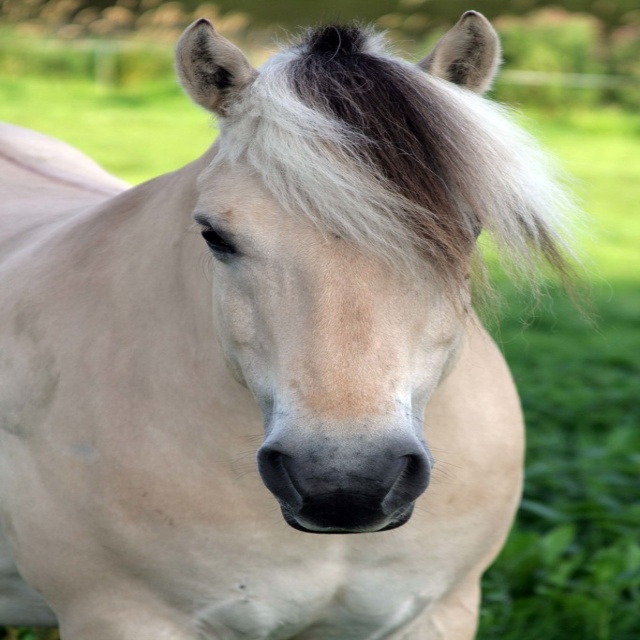Horse: (0, 7, 603, 640)
